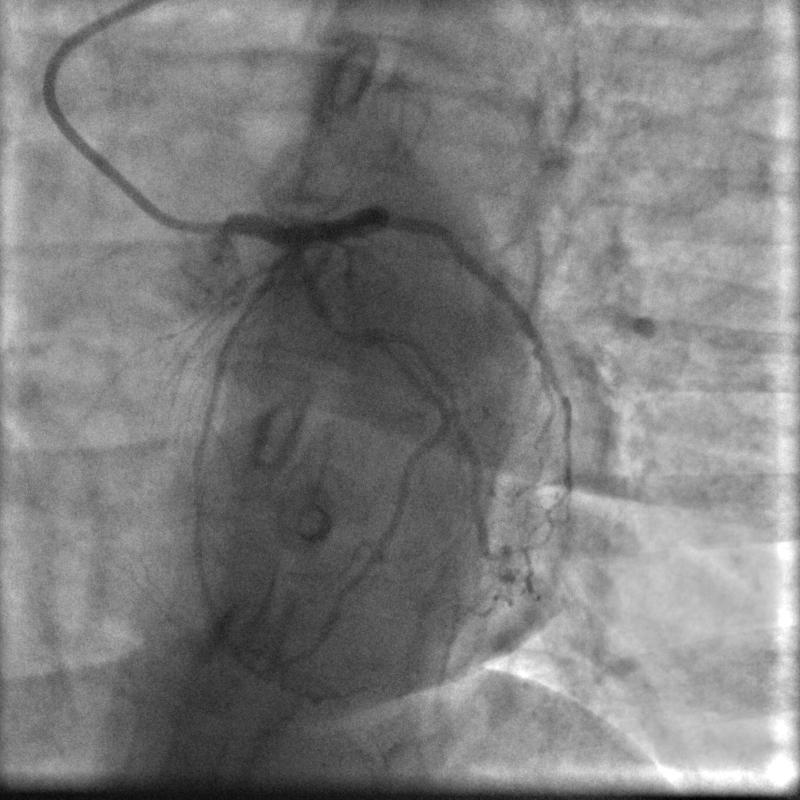Stenosis: (323, 319, 373, 353)
